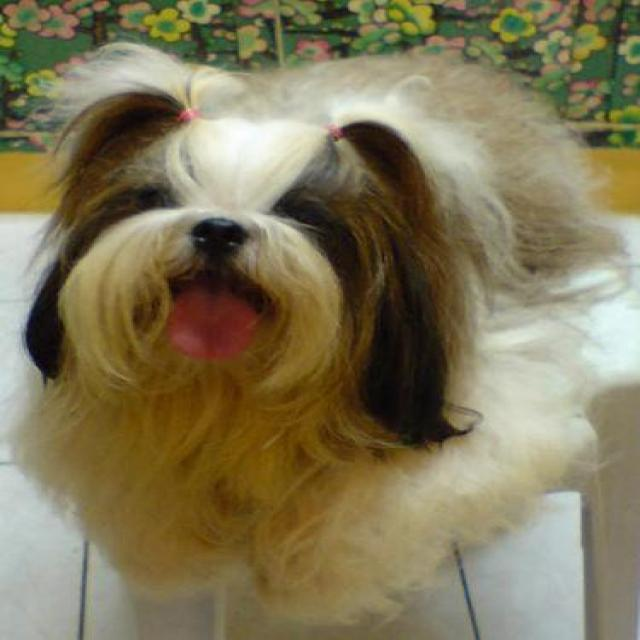shih_tzu: (1, 39, 636, 628)
